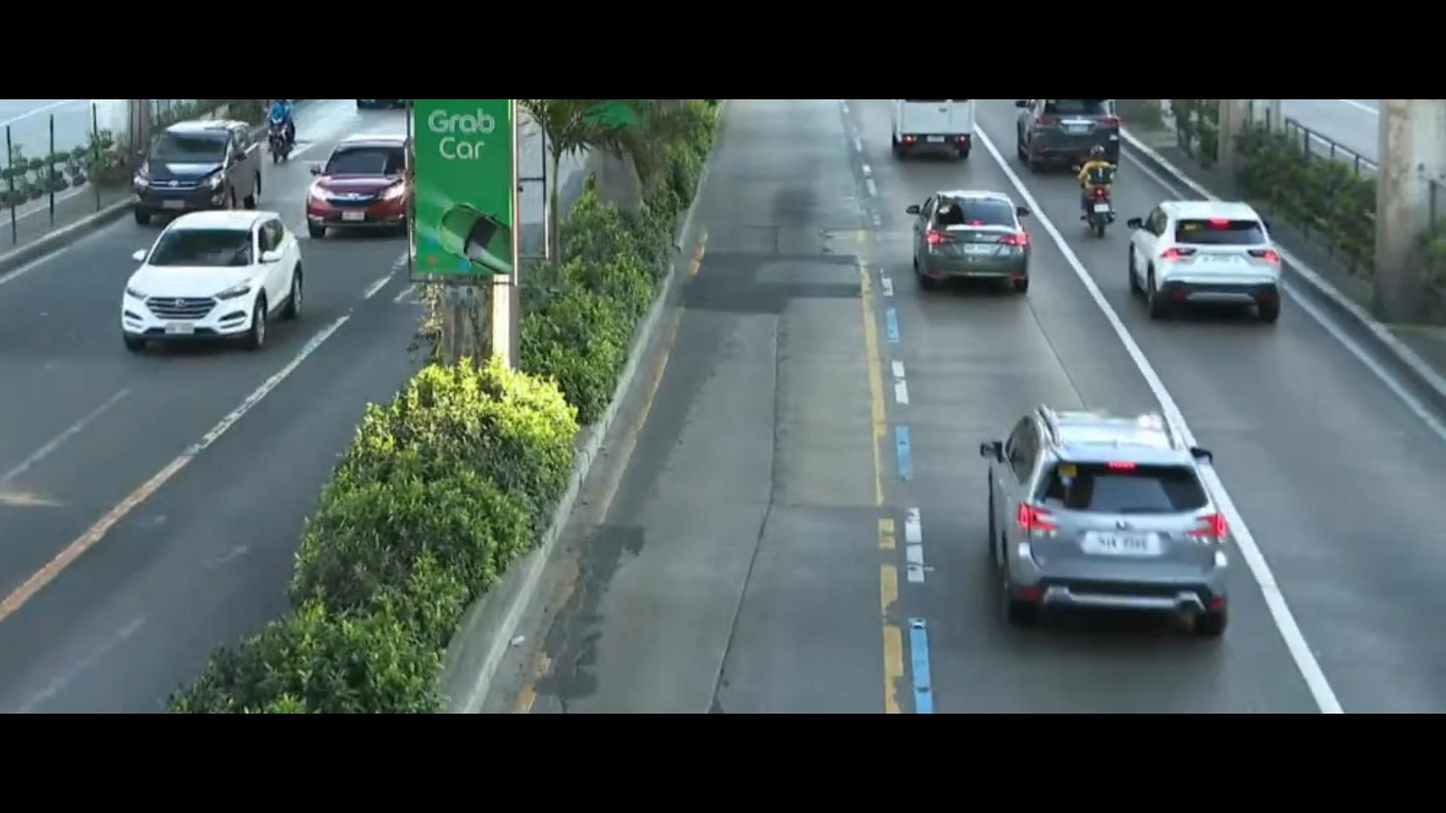Motorcycle: (1062, 147, 1129, 241), (247, 102, 316, 162)
SUV: (970, 392, 1266, 669), (1113, 185, 1318, 341), (113, 198, 322, 350), (123, 119, 258, 224), (302, 119, 416, 241), (995, 96, 1146, 165)
Sedan: (895, 179, 1043, 295)
